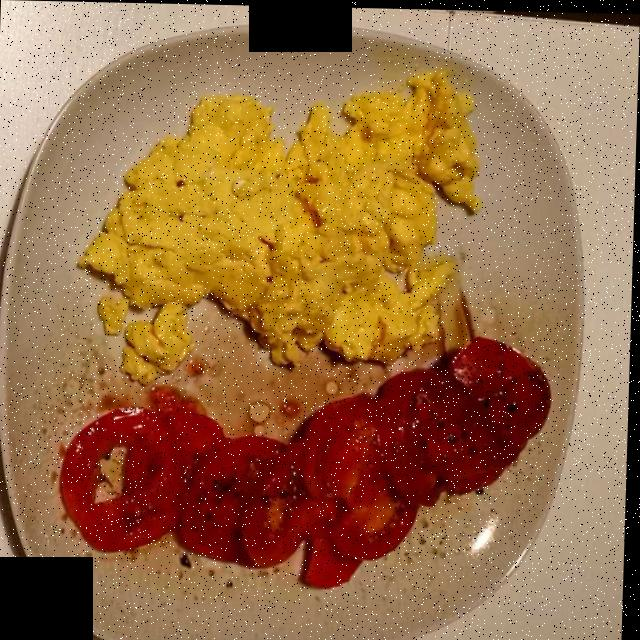balsamic-salad-dressing: (52, 335, 473, 605)
egg-scrambled-prepared: (88, 76, 475, 360)
tomato-raw: (52, 336, 562, 578)
